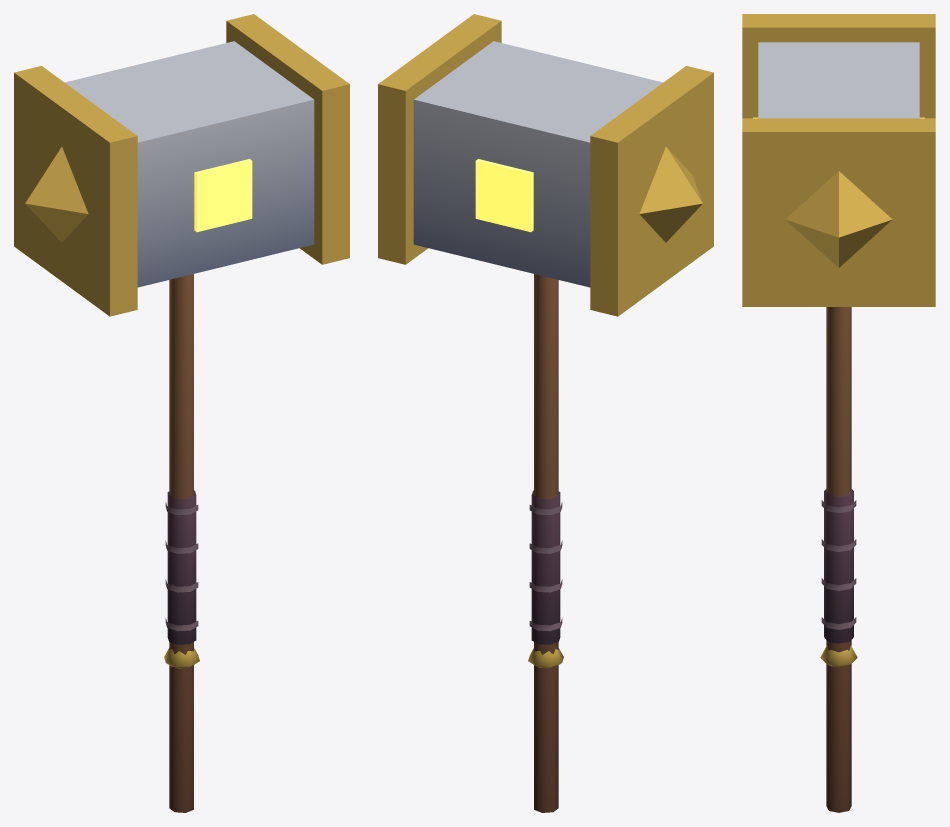
File: greathammer.glb
3 renders of one model, left to right at view 1: azimuth 30°, elevation 25°; view 2: azimuth 150°, elevation 25°; view 3: azimuth 270°, elevation 25°, orthographic.
Visible parts, largest first — view 1: greathammer; view 2: greathammer; view 3: greathammer.
Part boxes in pixels (x1,y1,x2,y2): greathammer: (14, 14, 349, 812); greathammer: (378, 14, 713, 812); greathammer: (742, 14, 935, 812).
Size of the model in its own units: 0.68 by 1.51 by 0.36.
